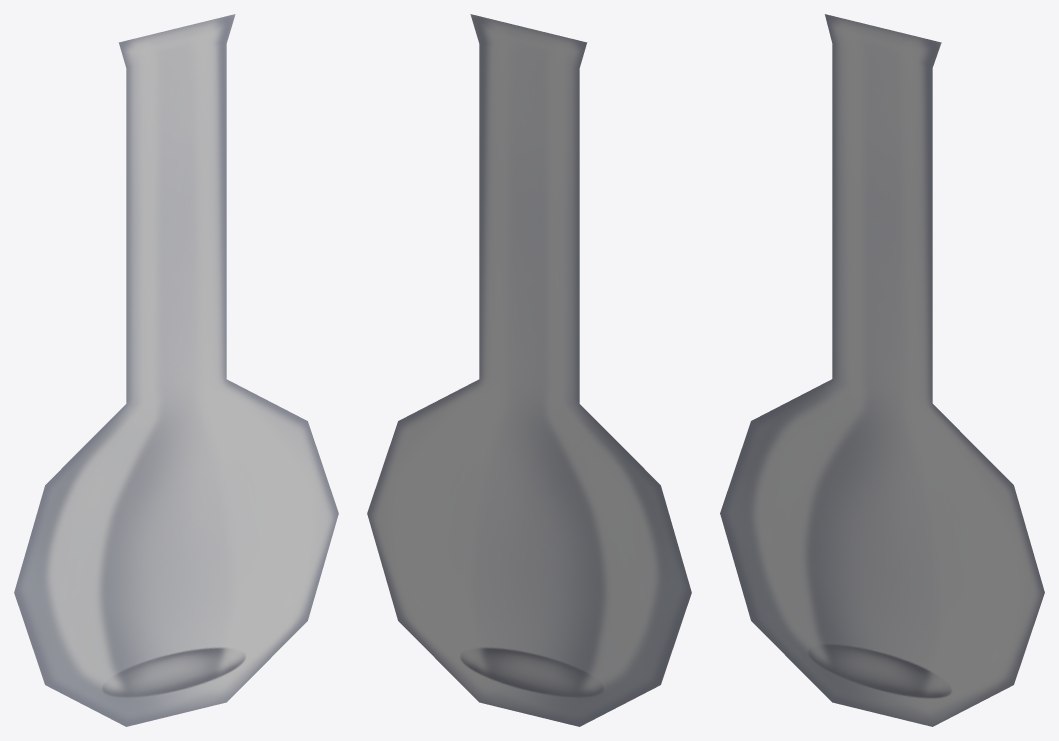
Rendered from SM_round flask.FBX.
3 views of the same model, side by side, from view 1: azimuth 30°, elevation 25°; view 2: azimuth 150°, elevation 25°; view 3: azimuth 330°, elevation 25° (orthographic).
Visible parts, largest first — view 1: round flask; view 2: round flask; view 3: round flask.
Part boxes in pixels (<box>): round flask: <box>14,14,338,726</box>; round flask: <box>367,14,691,726</box>; round flask: <box>720,14,1044,726</box>.
Bounding box in the file's own units: 120 × 243 × 3.96e-05.
Materials: 1 (1 with a texture image).
